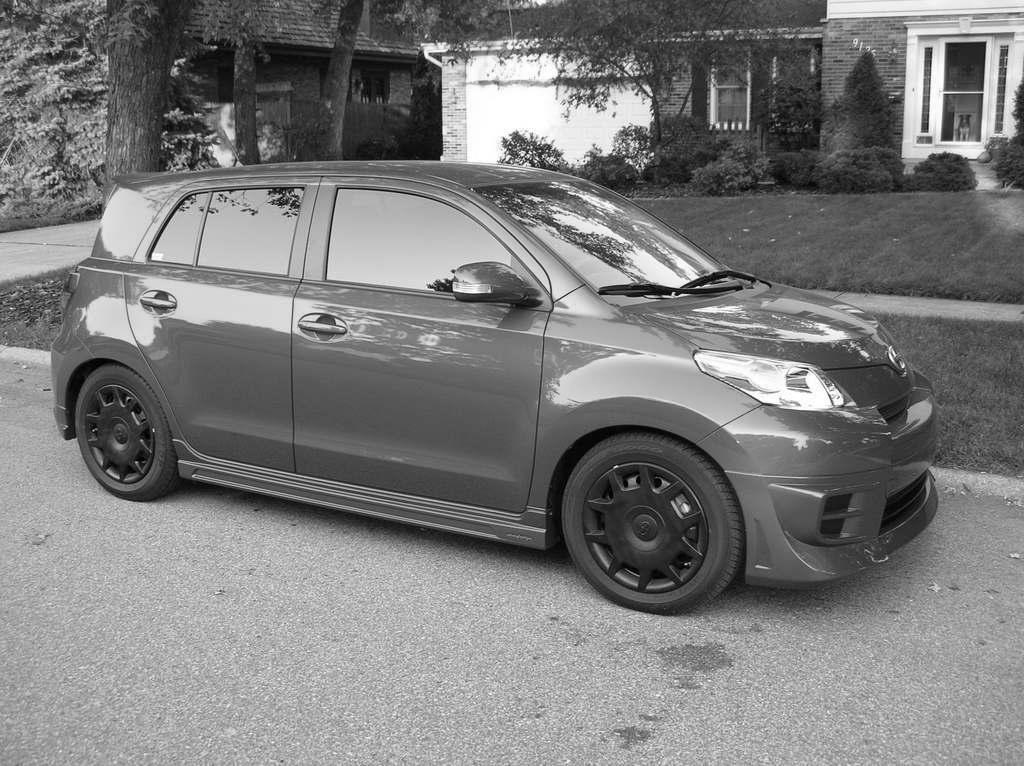car: (49, 152, 943, 621)
